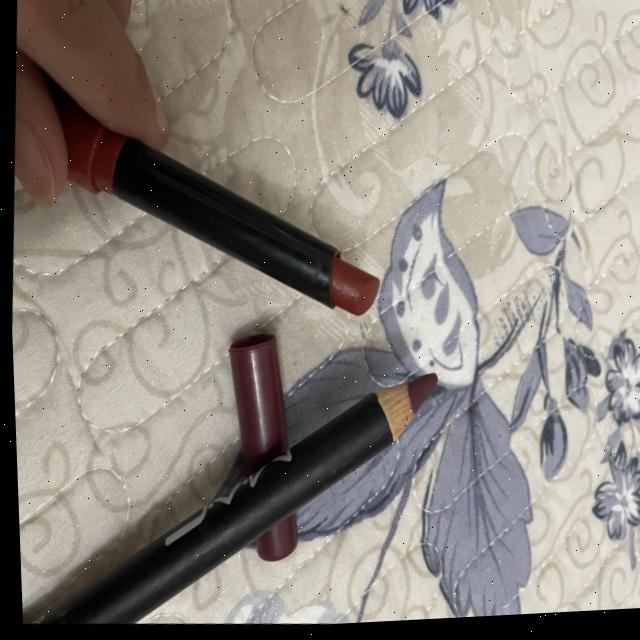lip liner: (11, 344, 442, 640)
lip stick: (1, 11, 407, 347)
